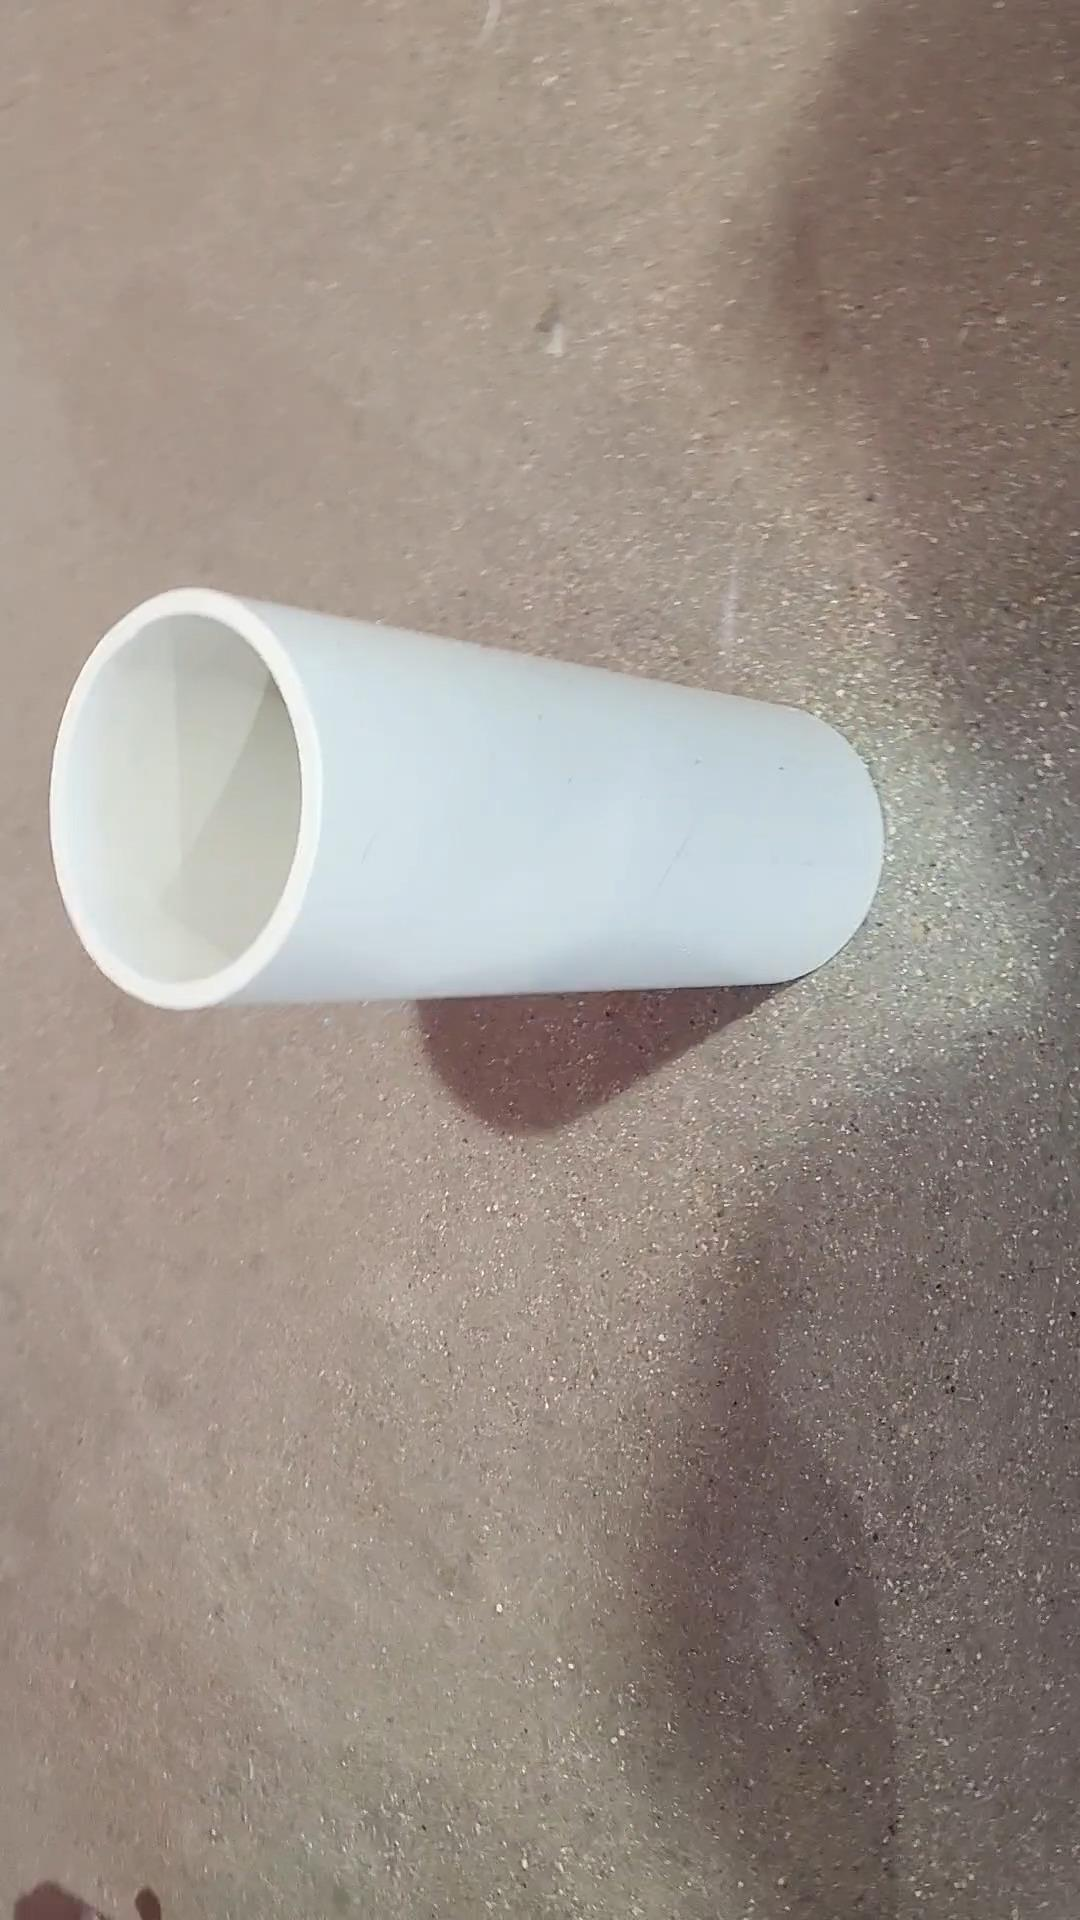coral: (47, 589, 893, 1018)
